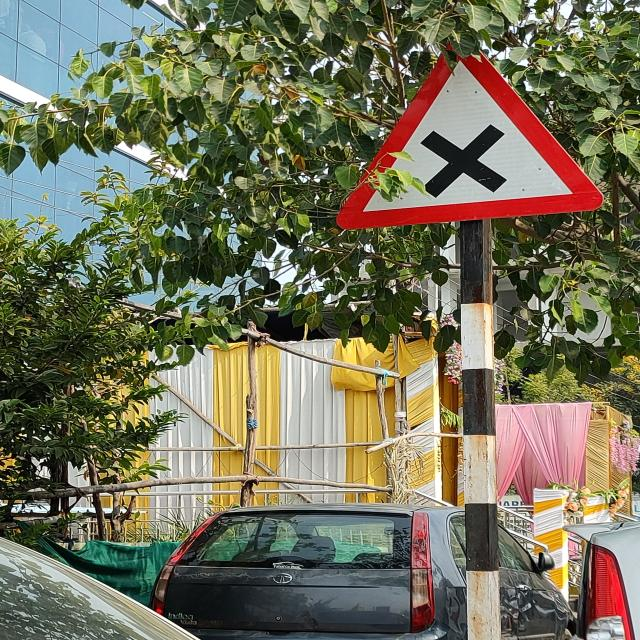cross_road: (338, 42, 605, 230)
